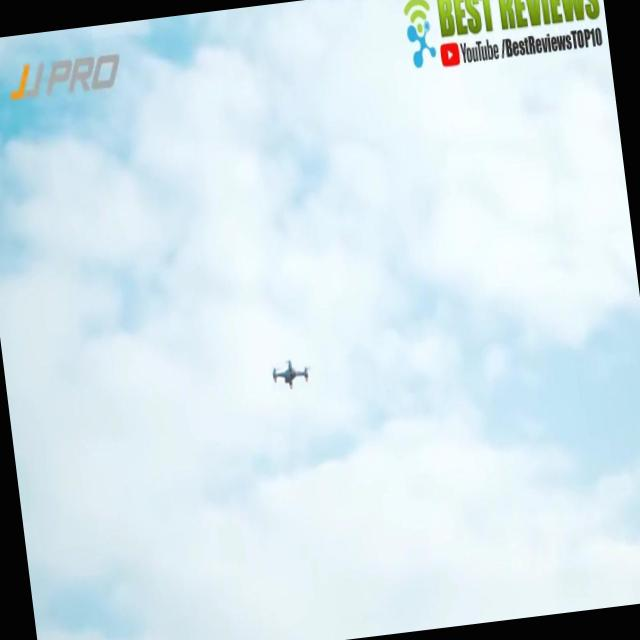drone: (269, 354, 314, 396)
